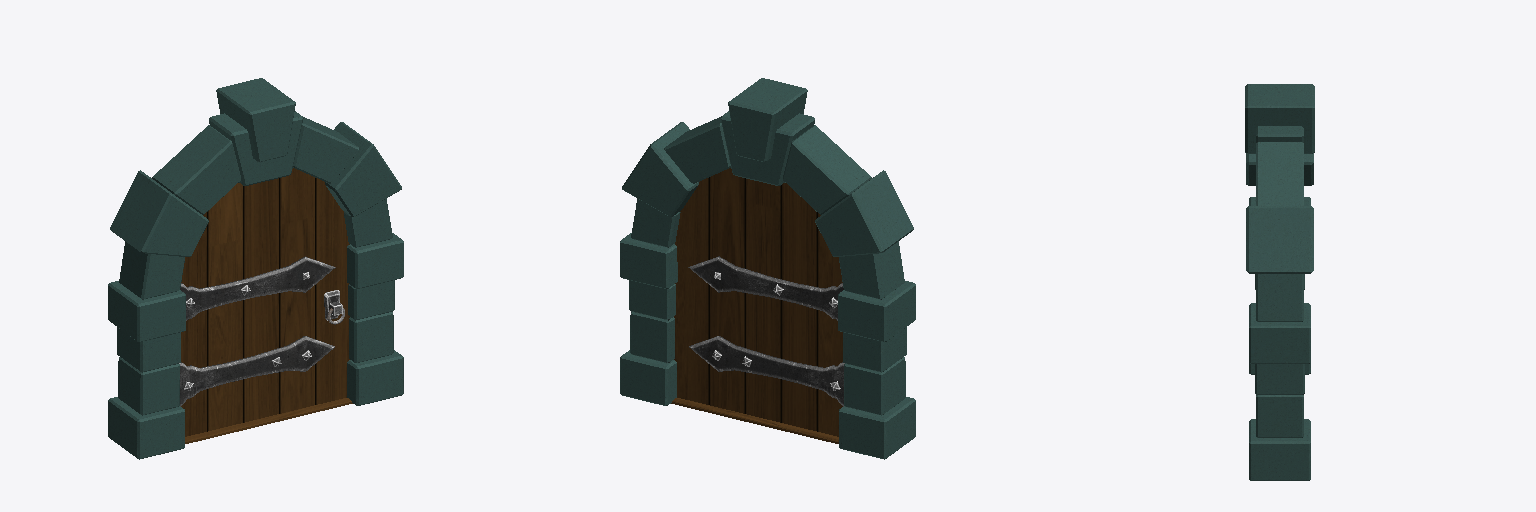
3 views of the same model, side by side, from view 1: azimuth 30°, elevation 25°; view 2: azimuth 150°, elevation 25°; view 3: azimuth 270°, elevation 25° (orthographic).
Parts seen in each view (by area): view 1: concrete, wood, metal; view 2: concrete, wood, metal; view 3: concrete.
Boxes of the visible parts, x1,y1,x2,y2 form: concrete: [108, 78, 403, 459]; wood: [181, 168, 352, 443]; metal: [179, 256, 344, 406]; concrete: [620, 78, 915, 459]; wood: [671, 168, 842, 443]; metal: [688, 256, 844, 406]; concrete: [1245, 84, 1314, 480].
Size of the model in its own units: 8.38 by 9.65 by 1.89.
1 materials, 1 textured.